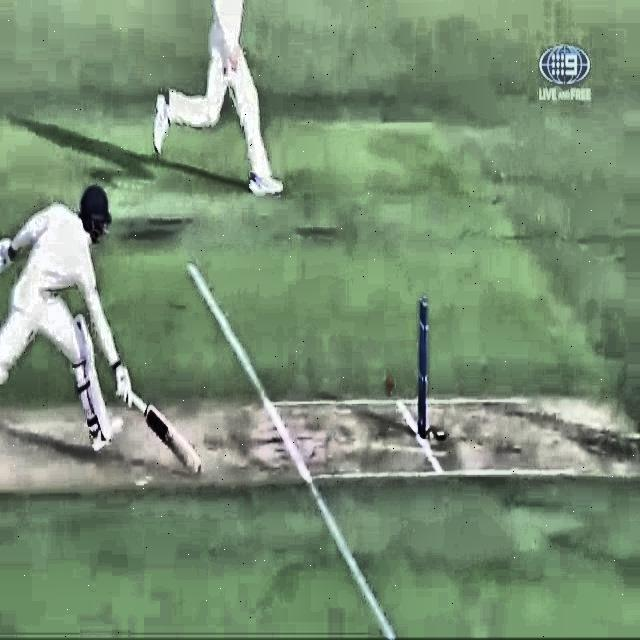Ball: (380, 373, 403, 403)
Bat: (118, 381, 208, 477)
Pitch_Line: (186, 260, 395, 640)
Undis_Wicket: (416, 295, 434, 446)
